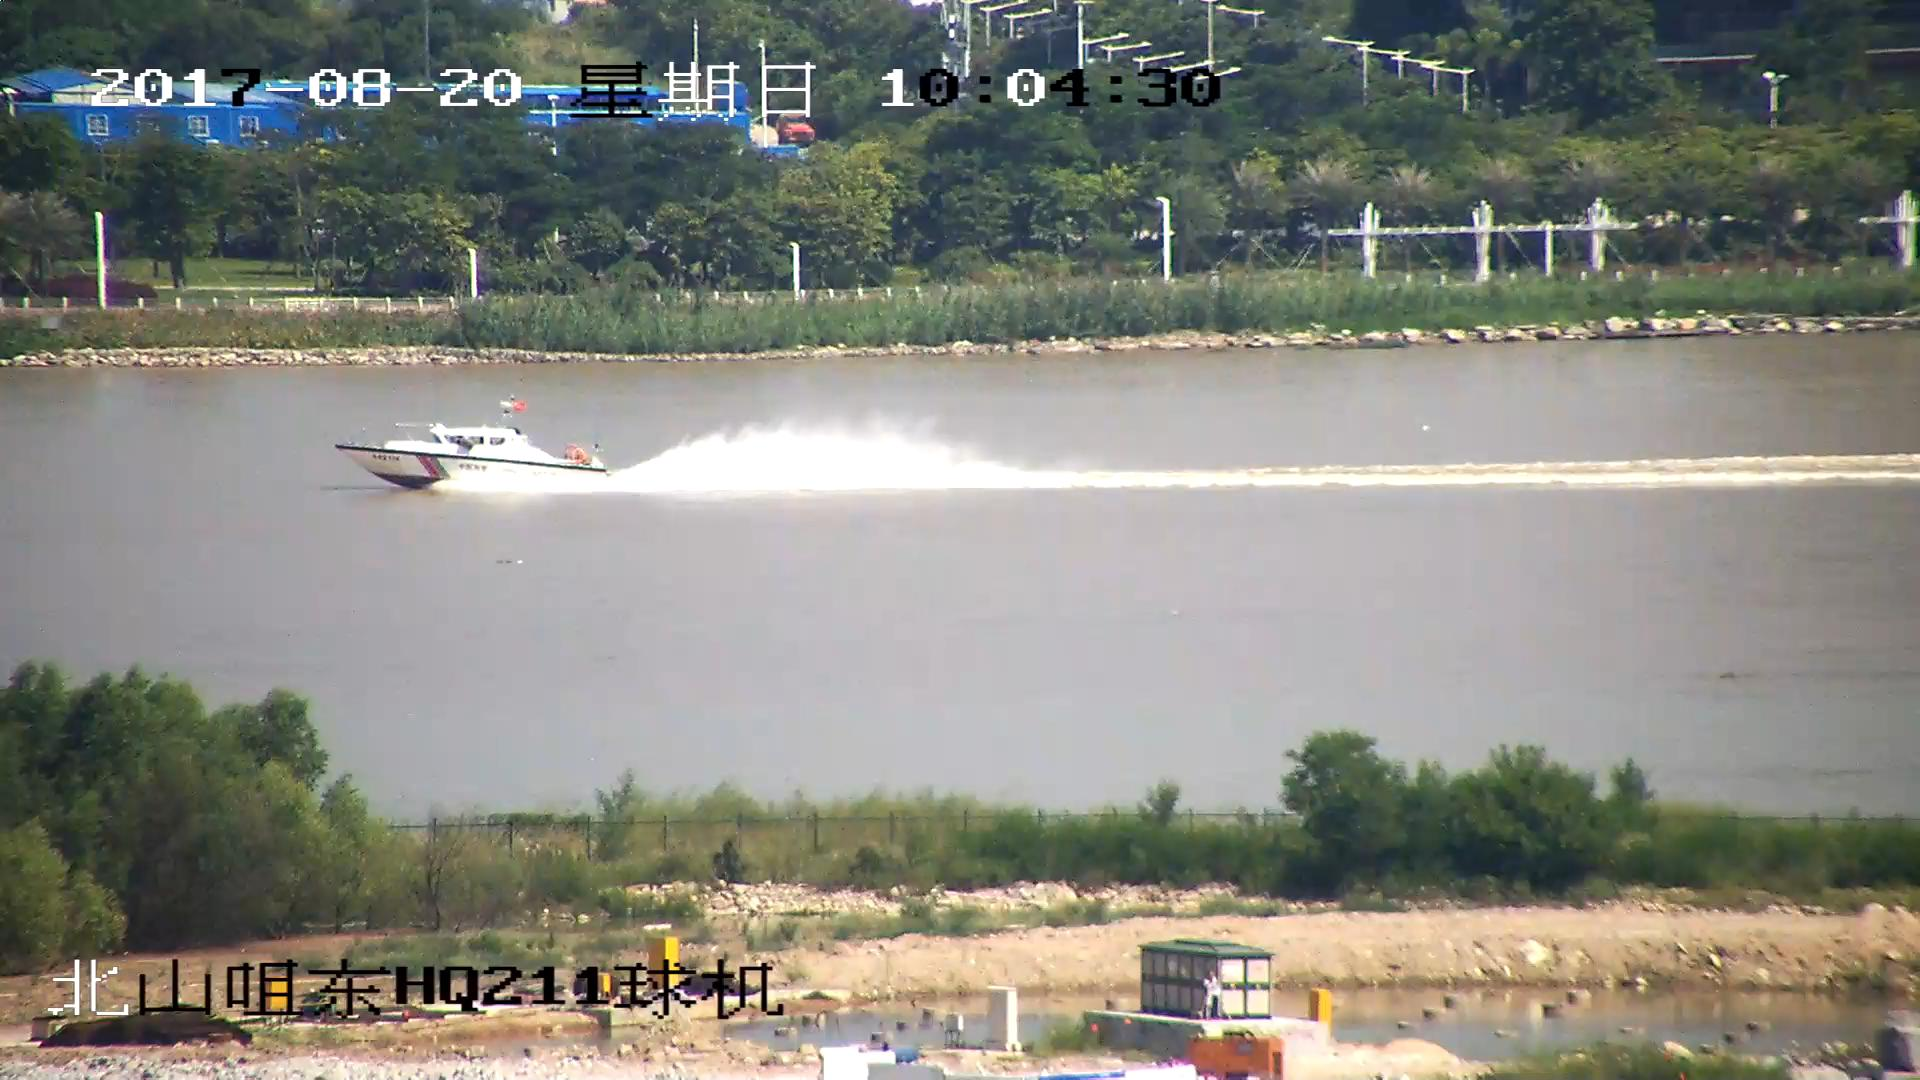passenger ship: (340, 402, 606, 496)
